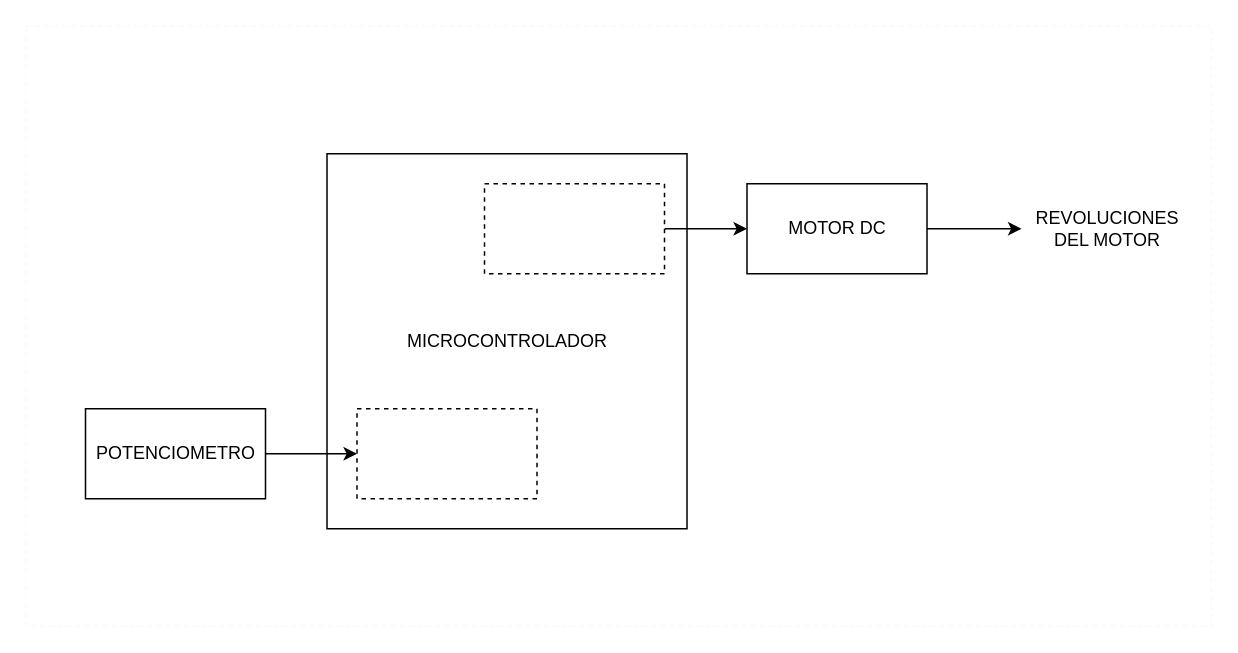
Some shapes in this 1238 by 653 pixel diagram are drawn without their labels. Here are the shapes that lost their labels. From the top down, the centre of each, then its label:
At point (573, 228): "PWM".
At point (446, 453): "FILTRO COMPLEMENTARIO".
